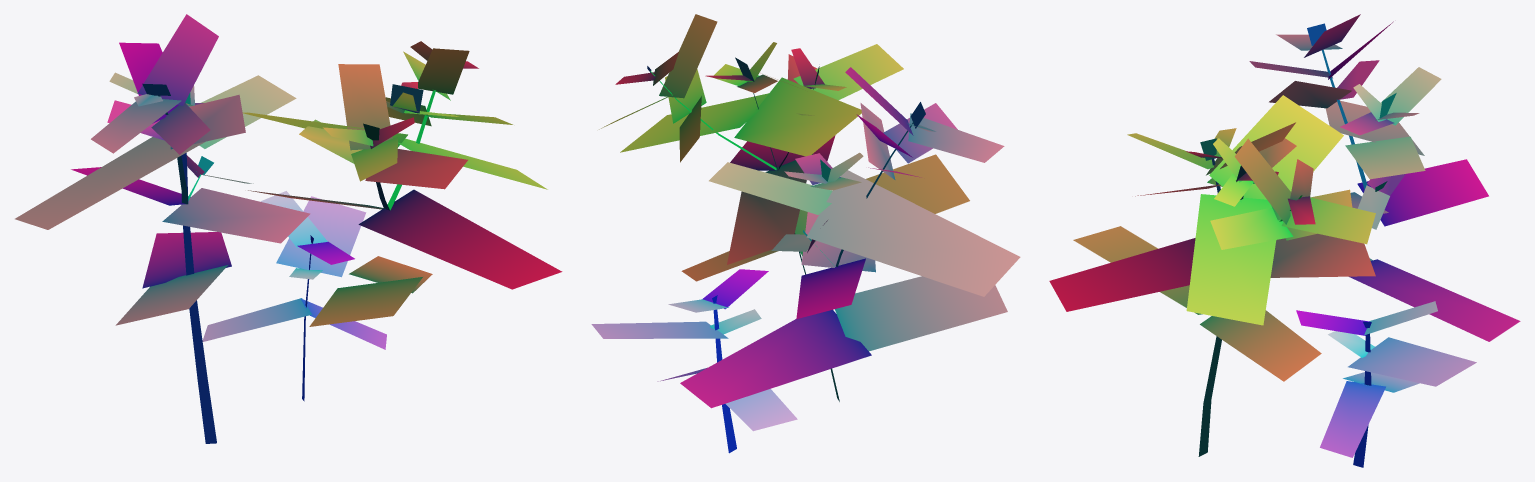
File: Common_Hemp_Nettle_xh1kdfbqx_Mid_xh1kdfbqx_VarD_LOD2.fbx
3 views of the same model, side by side, from view 1: azimuth 30°, elevation 25°; view 2: azimuth 150°, elevation 25°; view 3: azimuth 270°, elevation 25° (orthographic). The views are drawn at different scales.
Visible parts, largest first — view 1: _87rv_VarD_LOD4; view 2: _87rv_VarD_LOD4; view 3: _87rv_VarD_LOD4.
Boxes of the visible parts, box(x1,y1,x2,y2) form: _87rv_VarD_LOD4: box(15, 14, 562, 443); _87rv_VarD_LOD4: box(591, 14, 1020, 453); _87rv_VarD_LOD4: box(1049, 14, 1520, 467).
Bounding box in the file's own units: 102 × 92.49 × 98.72.
